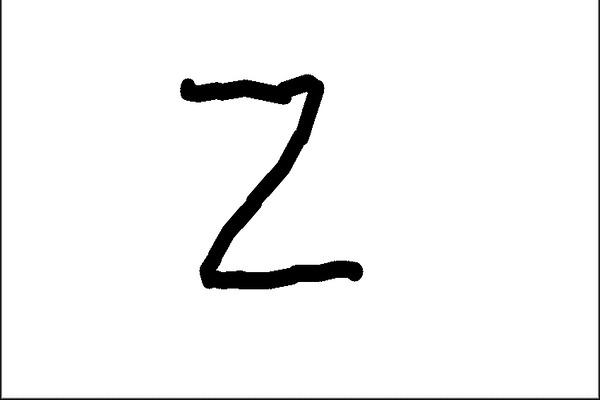Z: (174, 66, 370, 295)
